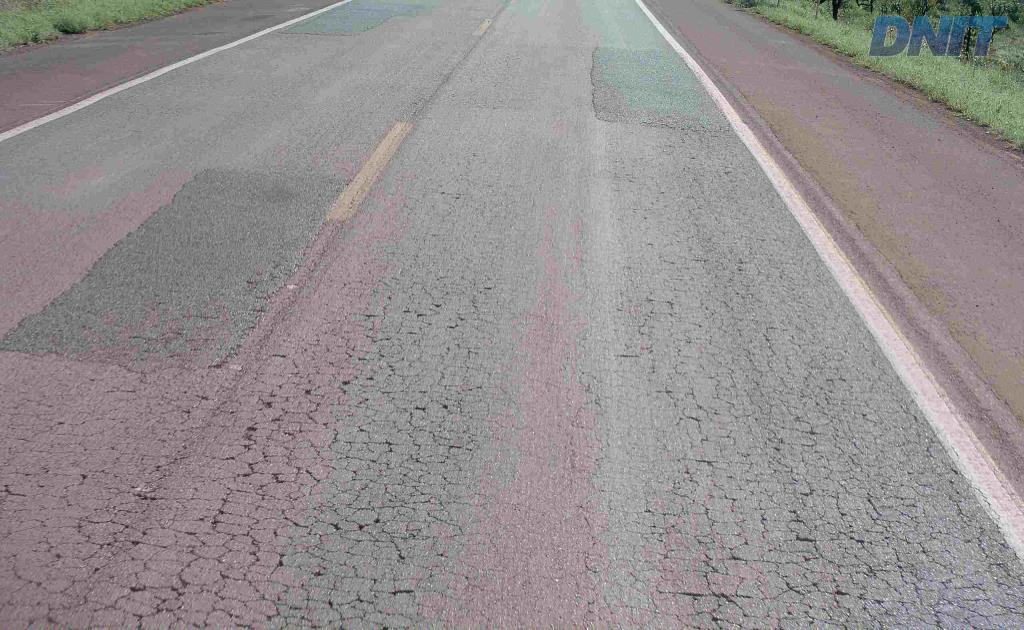crack: (281, 483, 422, 564), (255, 568, 415, 629), (192, 482, 286, 582), (97, 544, 209, 611), (668, 553, 753, 629), (97, 526, 169, 584), (197, 569, 260, 628), (883, 547, 926, 605), (131, 591, 189, 629), (219, 416, 262, 461)
